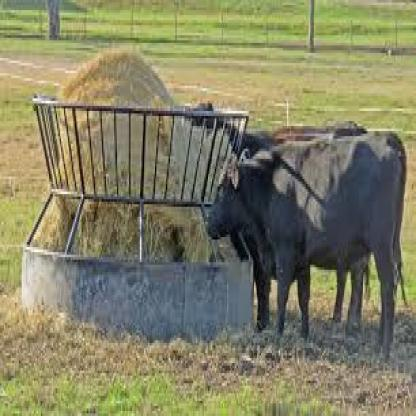cow: (206, 135, 407, 362)
